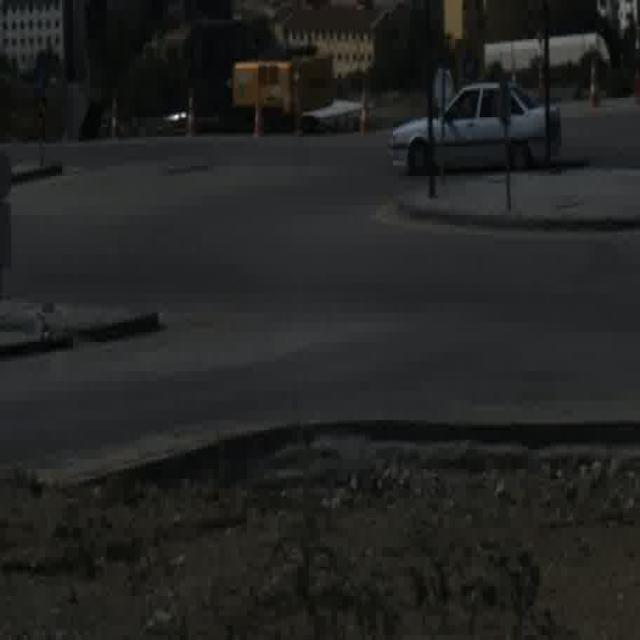Car: (386, 82, 562, 171)
